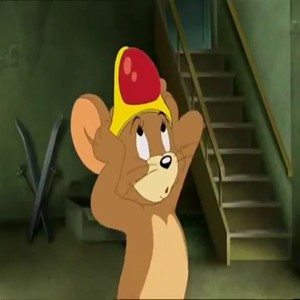Jerry: (68, 44, 204, 298)
